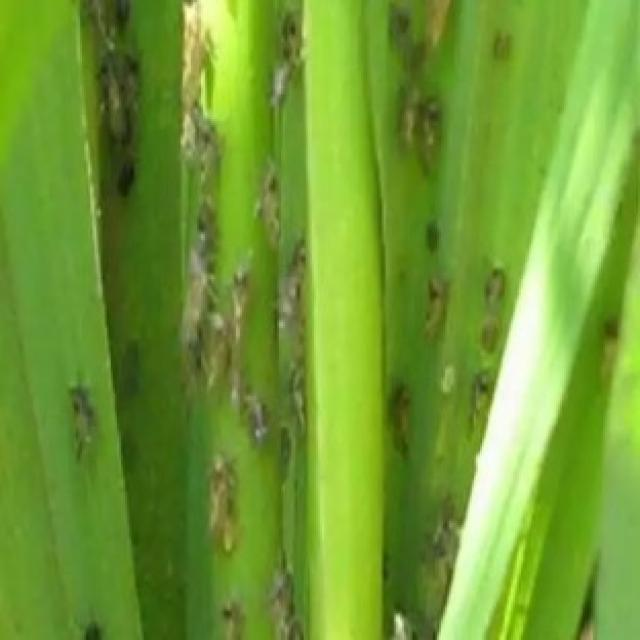brown plant hopper: (209, 453, 236, 552), (258, 154, 279, 248), (70, 382, 94, 457), (429, 279, 447, 334)
